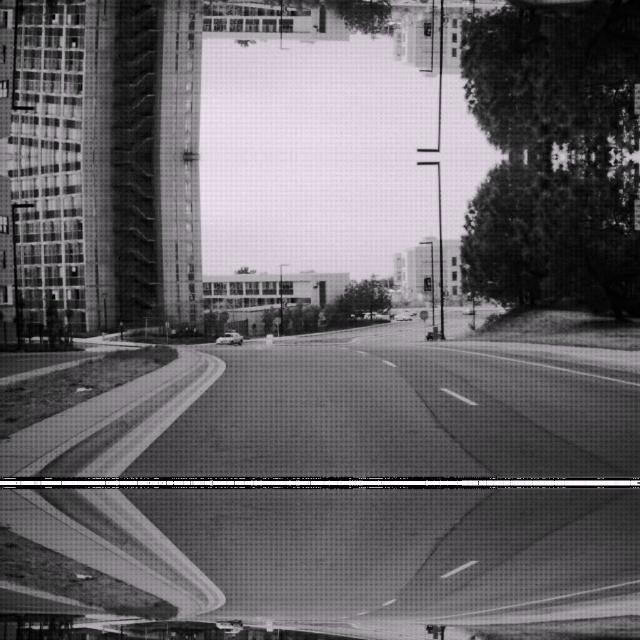stop: (419, 308, 429, 320), (419, 0, 430, 4)
